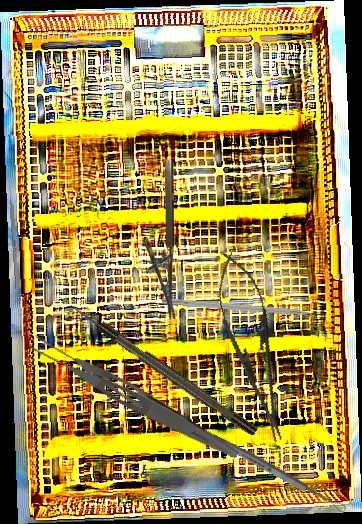Chopper: (160, 297, 331, 328)
Dressing Forceps: (25, 330, 246, 464)
Hook Surgical: (67, 299, 259, 439)
Needle Holder: (205, 246, 300, 448), (144, 160, 175, 319)
Pusher: (7, 176, 20, 290)
Surgical Spoon: (210, 432, 348, 515)
